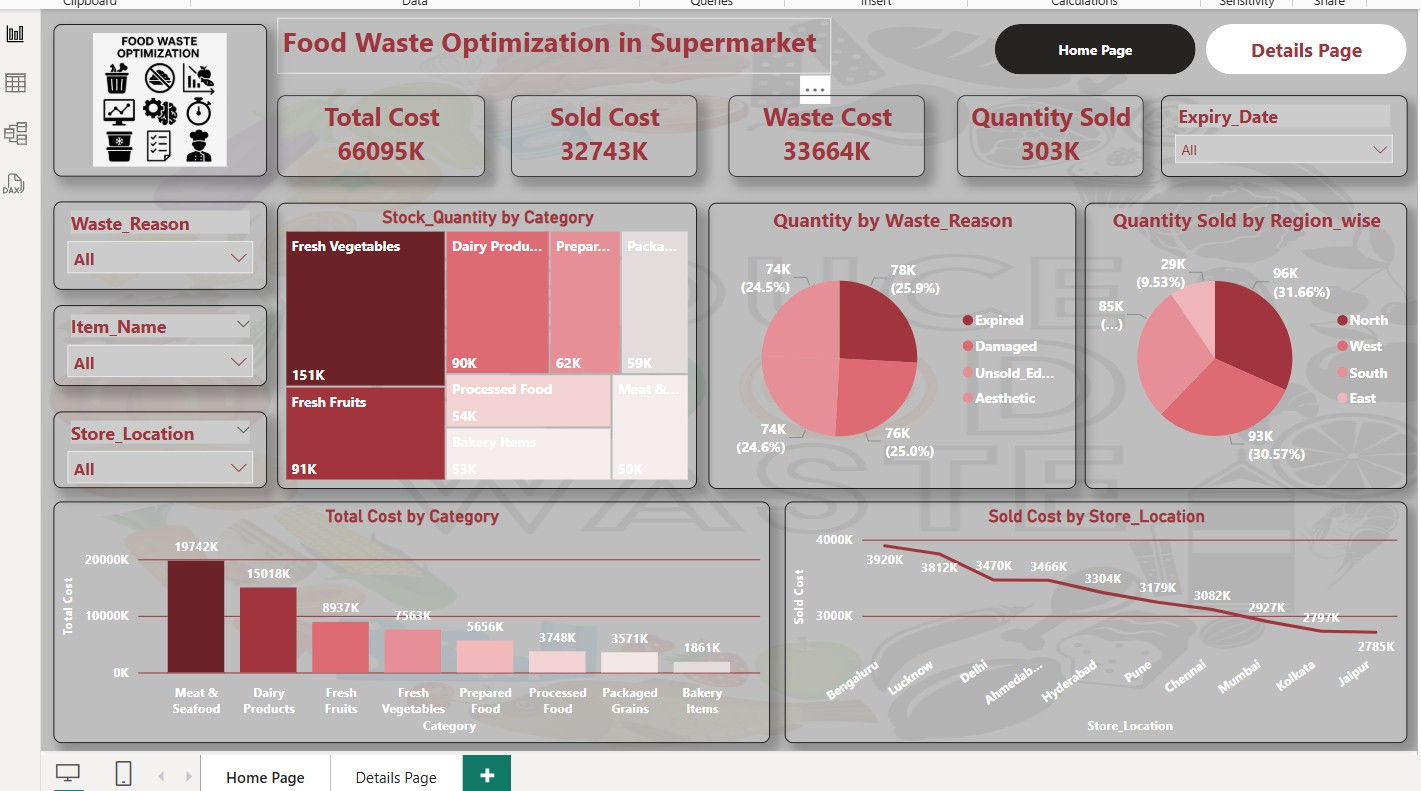

This screenshot's page, from the dashboard's own definition file:
{"tool":"powerbi","page":{"name":"Home Page","canvas":[1335,720],"ordinal":0},"visuals":[{"type":"pieChart","title":" Quantity by Waste_Reason","fields":{"Y":["Sum(Table1.Sold_Quantity)"],"Category":["Table1.Waste_Reason"]},"box":[647.6,188,356.6,277.7],"z":0},{"type":"textbox","box":[229.2,8.5,537.3,54.6],"z":1000},{"type":"card","title":"Quantity Sold","fields":{"Values":["Sum(Table1.Sold_Quantity)"]},"box":[889,83.7,180.7,78.8],"z":2000},{"type":"card","title":"Total Cost","fields":{"Values":["Table1.Total Cost"]},"box":[229.2,83.7,201.3,78.8],"z":3000},{"type":"pieChart","title":"Quantity Sold  by Region_wise","fields":{"Category":["Table1.Region"],"Y":["Sum(Table1.Sold_Quantity)"]},"box":[1012.7,188,312.9,277.7],"z":4000},{"type":"card","title":"Waste Cost","fields":{"Values":["Table1.Waste Cost"]},"box":[667,83.7,190.4,78.8],"z":5000},{"type":"card","title":"Sold Cost","fields":{"Values":["Table1.Sold Cost"]},"box":[456,83.7,180.7,78.8],"z":6000},{"type":"treemap","title":"Stock_Quantity by Category","fields":{"Details":["Table1.Category"],"Values":["Sum(Table1.Stock_Quantity)"]},"box":[229.2,188,407.5,277.7],"z":7000},{"type":"clusteredColumnChart","fields":{"Category":["Table1.Category"],"Y":["Table1.Total Cost"]},"box":[12.1,477.8,694.9,234.1],"z":8000},{"type":"slicer","fields":{"Values":["Table1.Waste_Reason"]},"box":[12.1,187,207.5,85.7],"z":9000},{"type":"slicer","fields":{"Values":["Table1.Item_Name"]},"box":[12.1,287.1,207.5,78.4],"z":10000},{"type":"image","box":[12.1,14.6,207.4,148],"z":11000},{"type":"slicer","fields":{"Values":["Table1.Store_Location"]},"box":[12.1,390.9,207.5,74.8],"z":12000},{"type":"lineChart","fields":{"Category":["Table1.Store_Location"],"Y":["Table1.Sold Cost"]},"box":[721.6,477.8,604,234.1],"z":13000},{"type":"slicer","fields":{"Values":["Table1.Expiry_Date"]},"box":[1086.6,83.7,238.9,78.8],"z":14000},{"type":"pageNavigator","box":[925.3,14.6,400.2,49.7],"z":15000}]}

Visuals, with their boxes on the page's 1335x720 design canvas (x1, y1, x2, y2). These are canvas units, not pixel positions in the 1421x791 screenshot, which may show the page scaled, cropped or inside an application window:
" Quantity by Waste_Reason" pieChart: (left=648, top=188, right=1004, bottom=466)
textbox: (left=229, top=8, right=766, bottom=63)
"Quantity Sold" card: (left=889, top=84, right=1070, bottom=162)
"Total Cost" card: (left=229, top=84, right=430, bottom=162)
"Quantity Sold  by Region_wise" pieChart: (left=1013, top=188, right=1326, bottom=466)
"Waste Cost" card: (left=667, top=84, right=857, bottom=162)
"Sold Cost" card: (left=456, top=84, right=637, bottom=162)
"Stock_Quantity by Category" treemap: (left=229, top=188, right=637, bottom=466)
clusteredColumnChart - Table1.Category x Table1.Total Cost: (left=12, top=478, right=707, bottom=712)
slicer - Table1.Waste_Reason: (left=12, top=187, right=220, bottom=273)
slicer - Table1.Item_Name: (left=12, top=287, right=220, bottom=366)
image: (left=12, top=15, right=220, bottom=163)
slicer - Table1.Store_Location: (left=12, top=391, right=220, bottom=466)
lineChart - Table1.Store_Location x Table1.Sold Cost: (left=722, top=478, right=1326, bottom=712)
slicer - Table1.Expiry_Date: (left=1087, top=84, right=1326, bottom=162)
pageNavigator: (left=925, top=15, right=1326, bottom=64)
